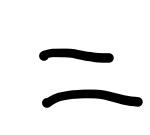eqv: (40, 49, 143, 108)
